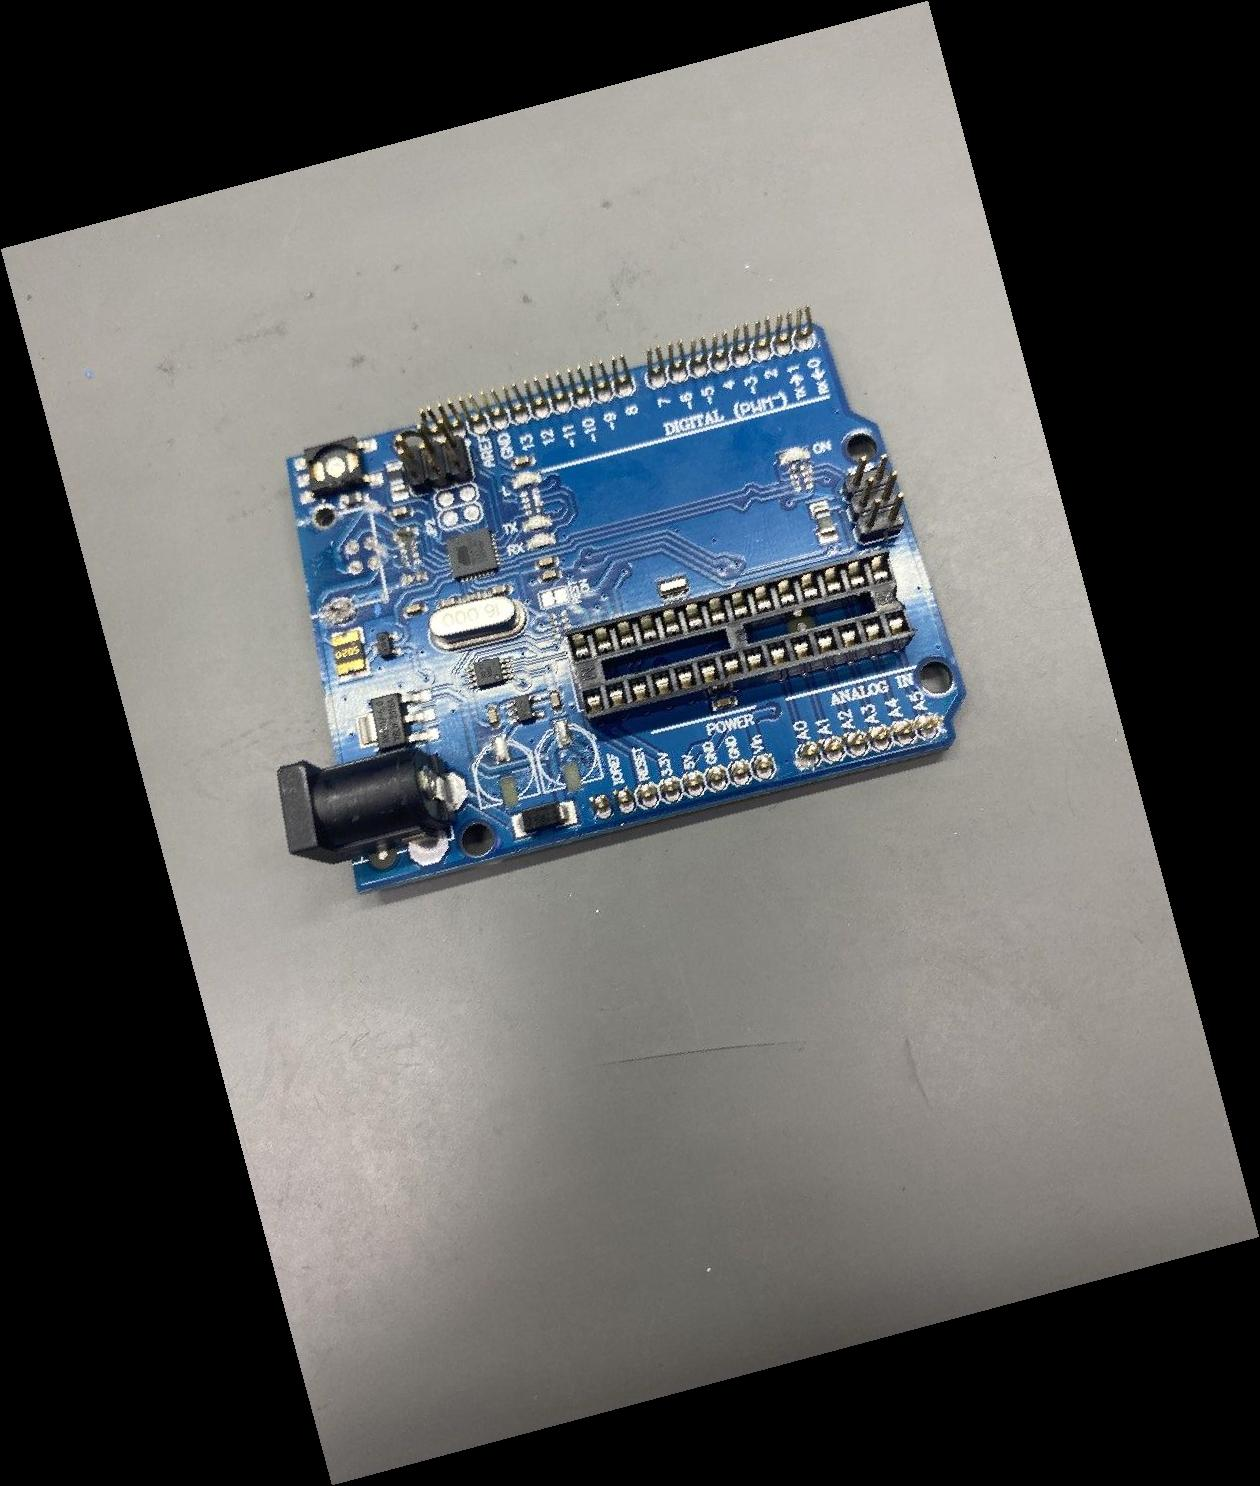Arduino board: (276, 305, 967, 896)
